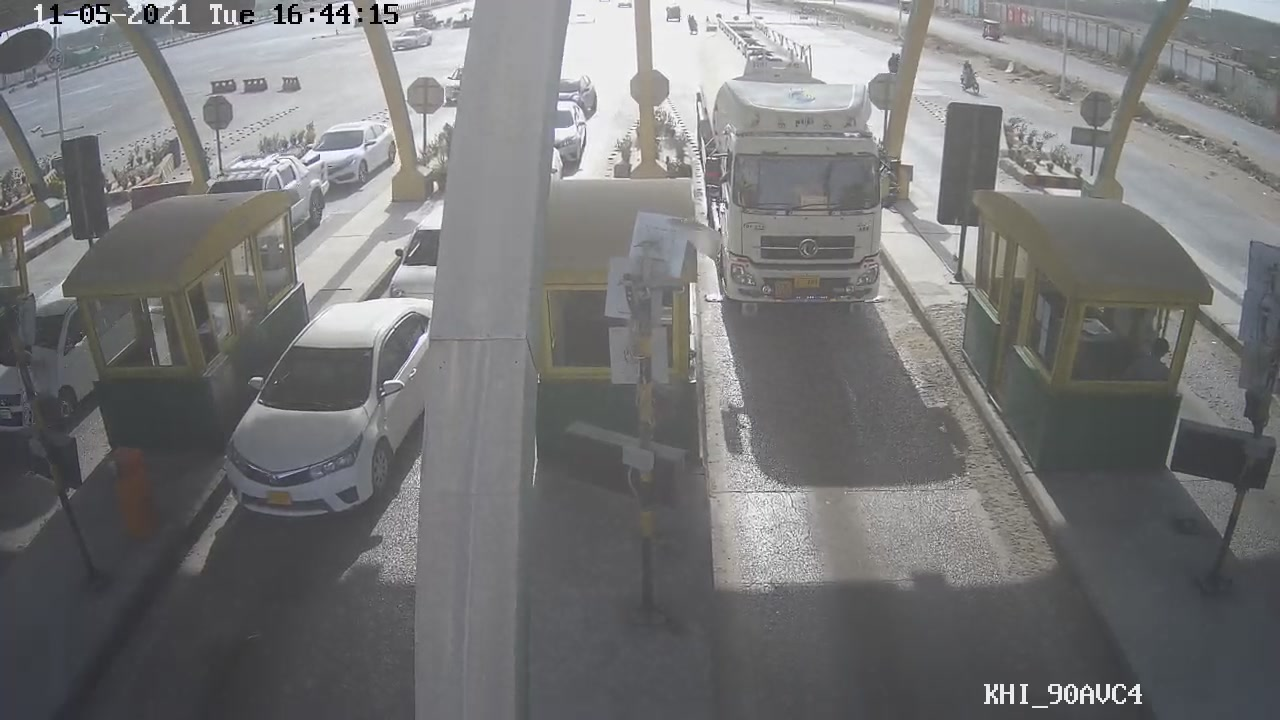F6: (688, 43, 924, 318)
